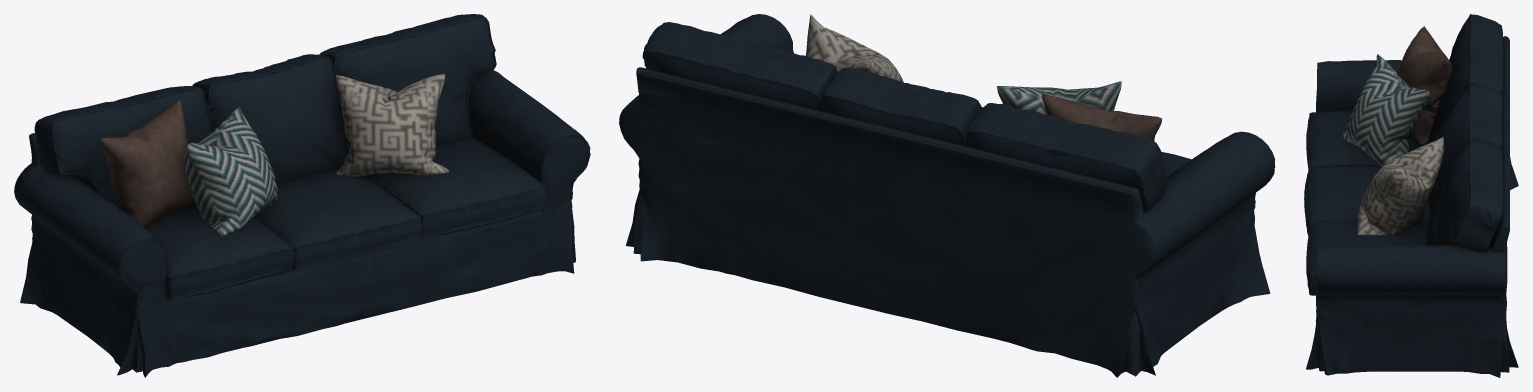
Rendered from raw_model.obj.
3 renders of one model, left to right at view 1: azimuth 30°, elevation 25°; view 2: azimuth 150°, elevation 25°; view 3: azimuth 270°, elevation 25°, orthographic. The views are drawn at different scales.
Parts seen in each view (by area): view 1: solid_001, solid_002, solid_004, solid_003; view 2: solid_001, solid_002, solid_003, solid_004; view 3: solid_001, solid_004, solid_002, solid_003.
Part boxes in pixels (left/top/right/bottom): solid_001: left=14, top=14, right=590, bottom=377; solid_002: left=335, top=74, right=449, bottom=177; solid_004: left=183, top=106, right=277, bottom=236; solid_003: left=100, top=100, right=195, bottom=227; solid_001: left=619, top=14, right=1275, bottom=377; solid_002: left=806, top=14, right=903, bottom=82; solid_003: left=1042, top=93, right=1161, bottom=140; solid_004: left=996, top=81, right=1121, bottom=114; solid_001: left=1304, top=14, right=1518, bottom=377; solid_004: left=1342, top=54, right=1429, bottom=166; solid_002: left=1357, top=137, right=1444, bottom=235; solid_003: left=1397, top=26, right=1452, bottom=145.
Size of the model in its own units: 2.3 by 0.8982 by 1.
1 material, 1 textured.
